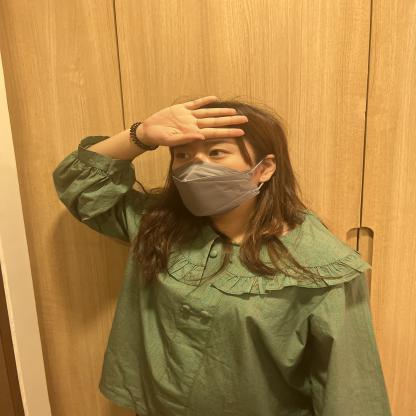Sick: (74, 71, 262, 161)
